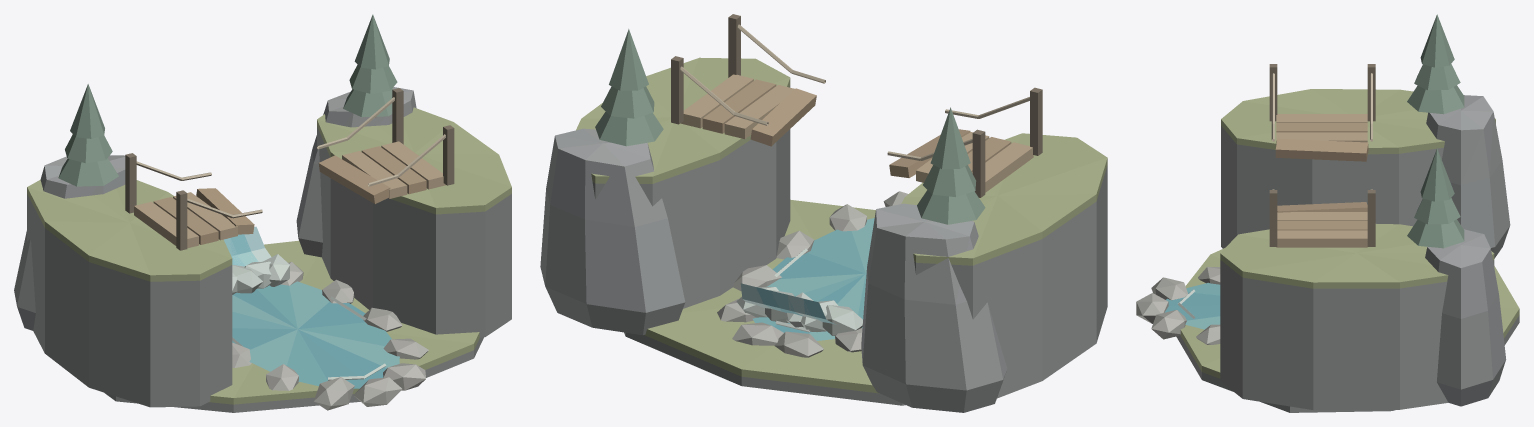
3 renders of one model, left to right at view 1: azimuth 30°, elevation 25°; view 2: azimuth 150°, elevation 25°; view 3: azimuth 270°, elevation 25°, orthographic. The views are drawn at different scales.
Parts seen in each view (by area): view 1: S06; view 2: S06; view 3: S06.
Part boxes in pixels (left/top/right/bottom): S06: left=14, top=14, right=511, bottom=412; S06: left=540, top=14, right=1107, bottom=412; S06: left=1136, top=14, right=1519, bottom=412.
Size of the model in its own units: 4.66 by 2.69 by 3.86.
